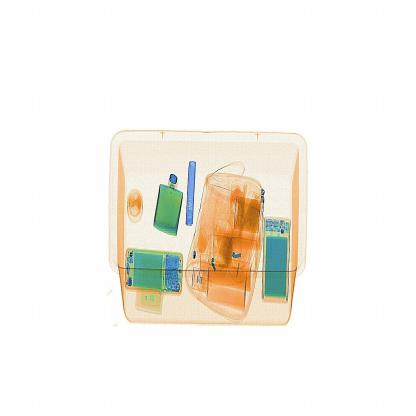pliers: (185, 161, 201, 230)
